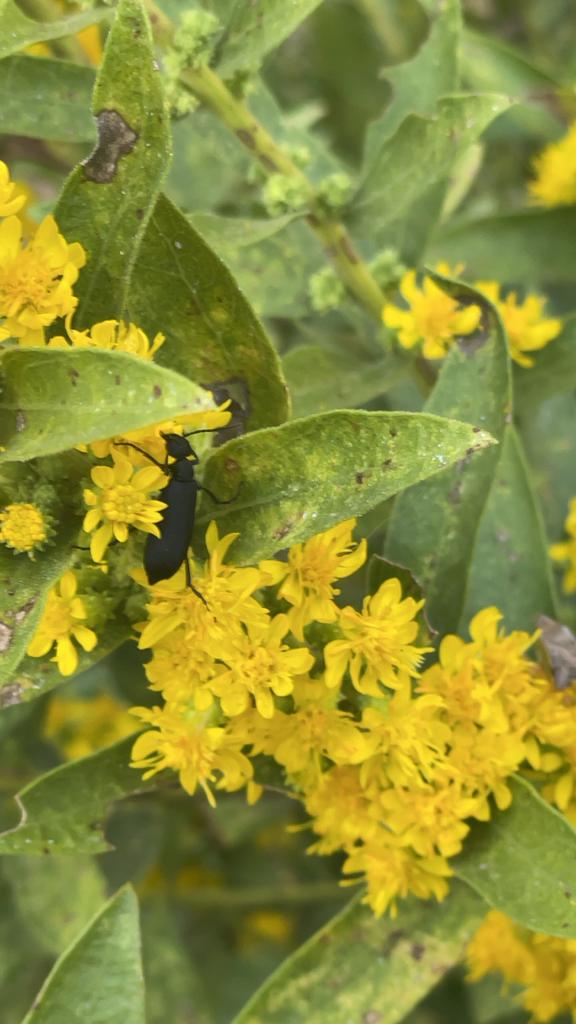blister_beetle: (100, 409, 278, 649)
